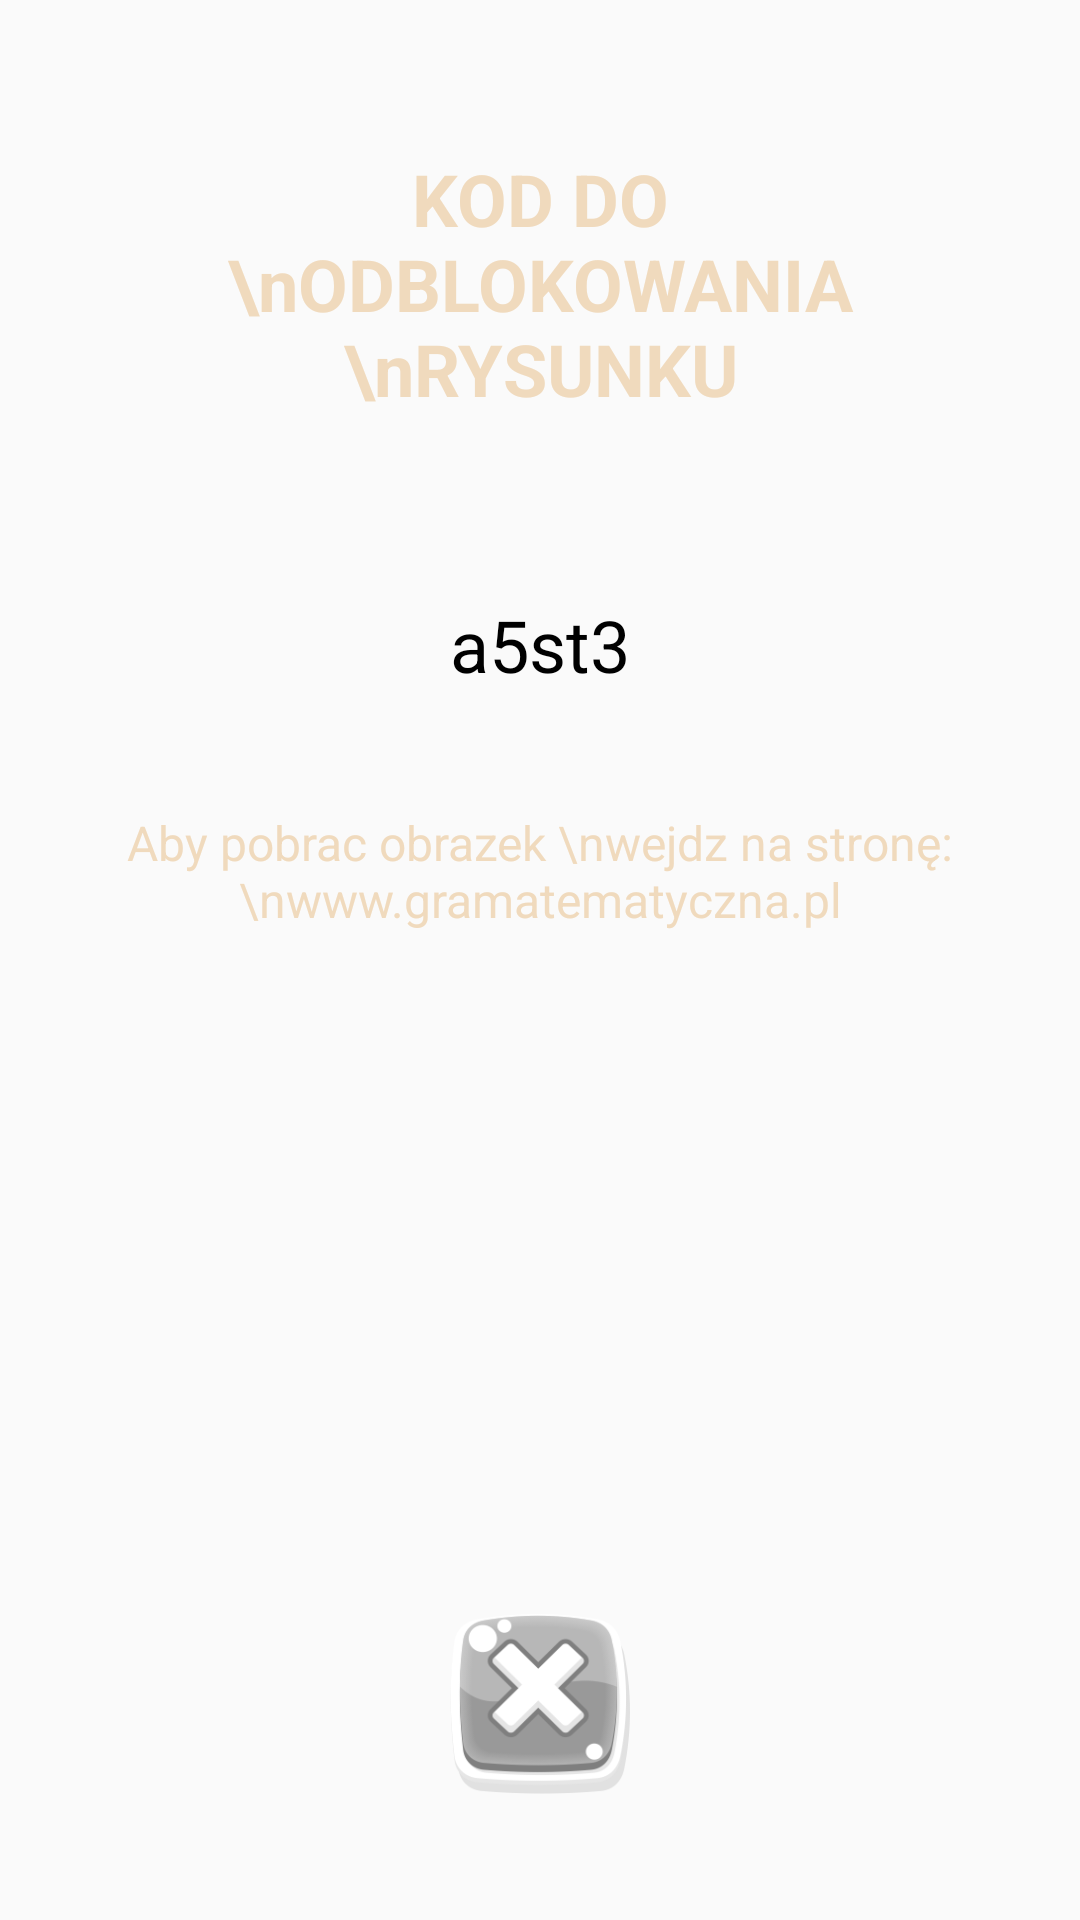

Screen size 1080 x 1920. Icon name, then its box in pixels as (x1, y1, x2, y2):
close: (460, 1616, 630, 1793)
